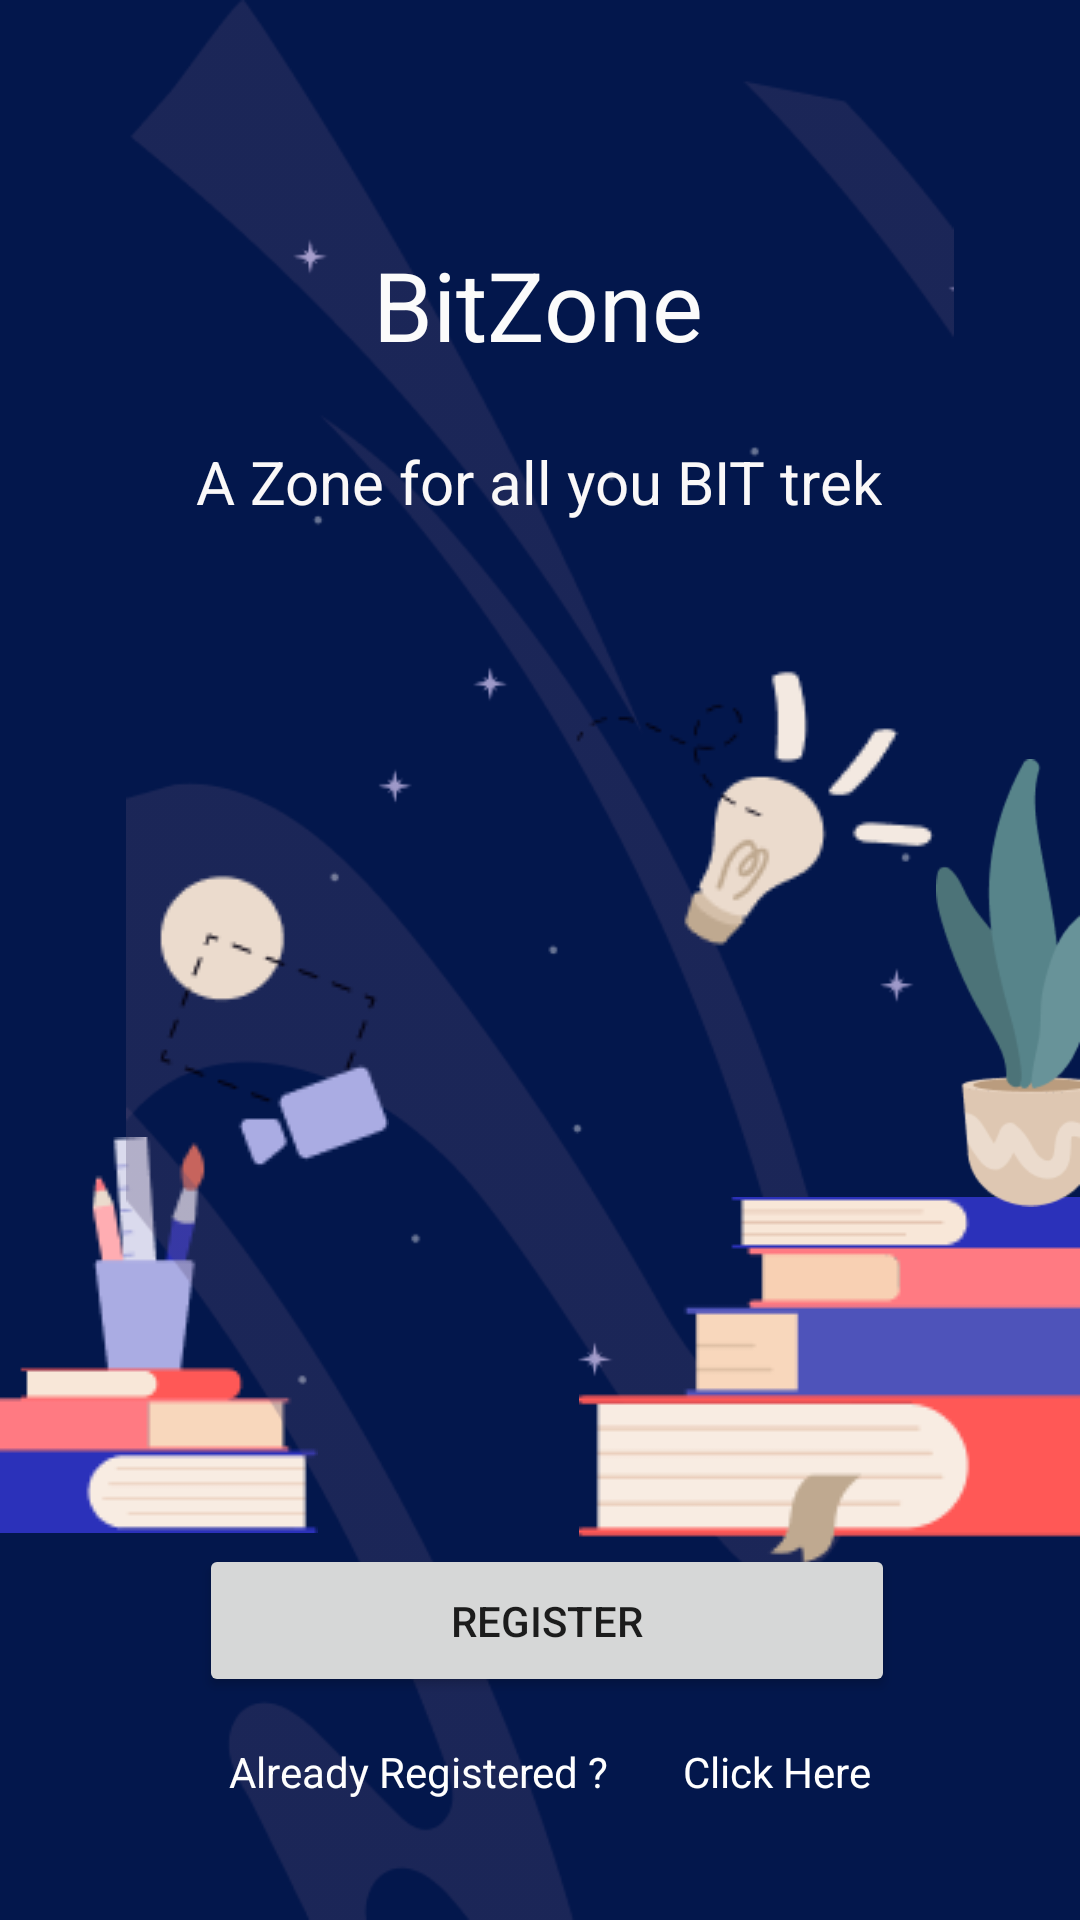

Where to tap for icons on this 1080*1920 app screen, as (x=x, y=y):
moon camera: (x=274, y=1019)
